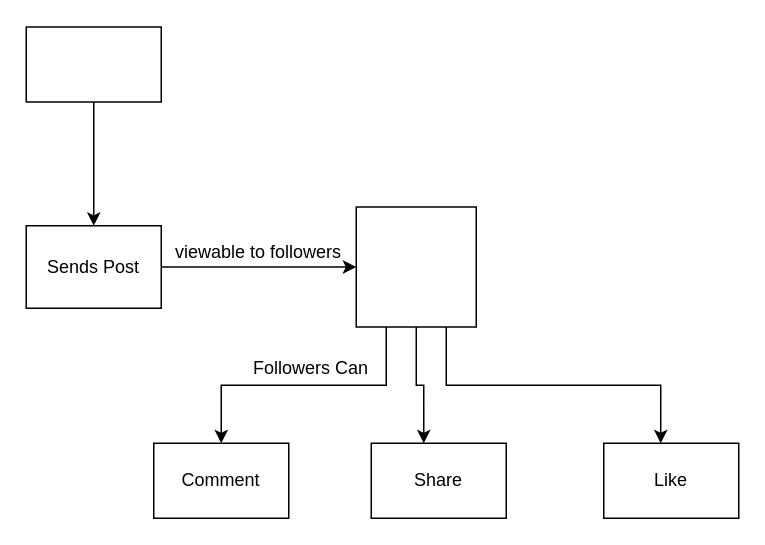
The diagram is 765 pixels wide and 545 high, and some of its shapes have lost their labels. Each missing label, with the centre of its shape:
Feed: [415,266]
User: [93,64]
